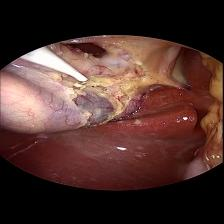Hook: (22, 45, 90, 90)
